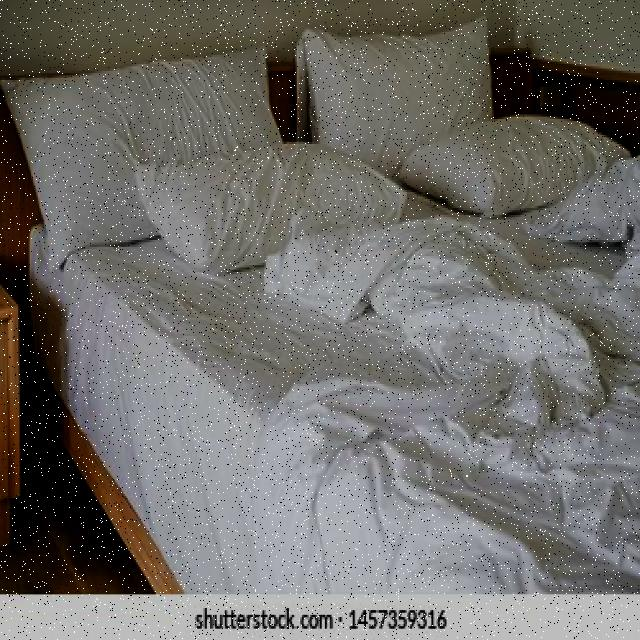bed: (20, 30, 640, 591)
